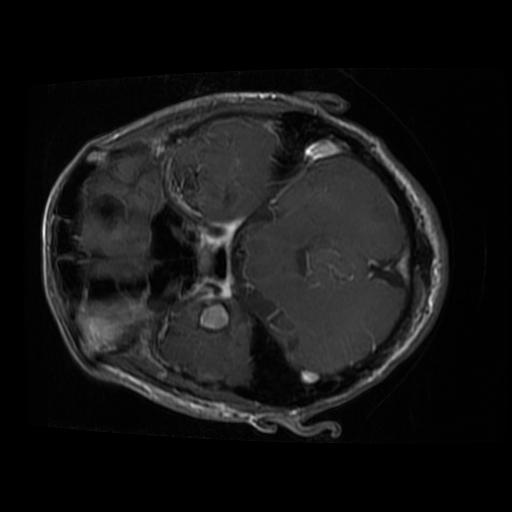glioma: (197, 303, 229, 332)
